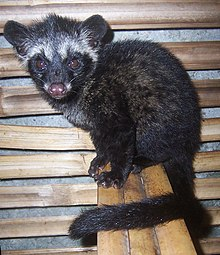Civet: (1, 13, 216, 243)
